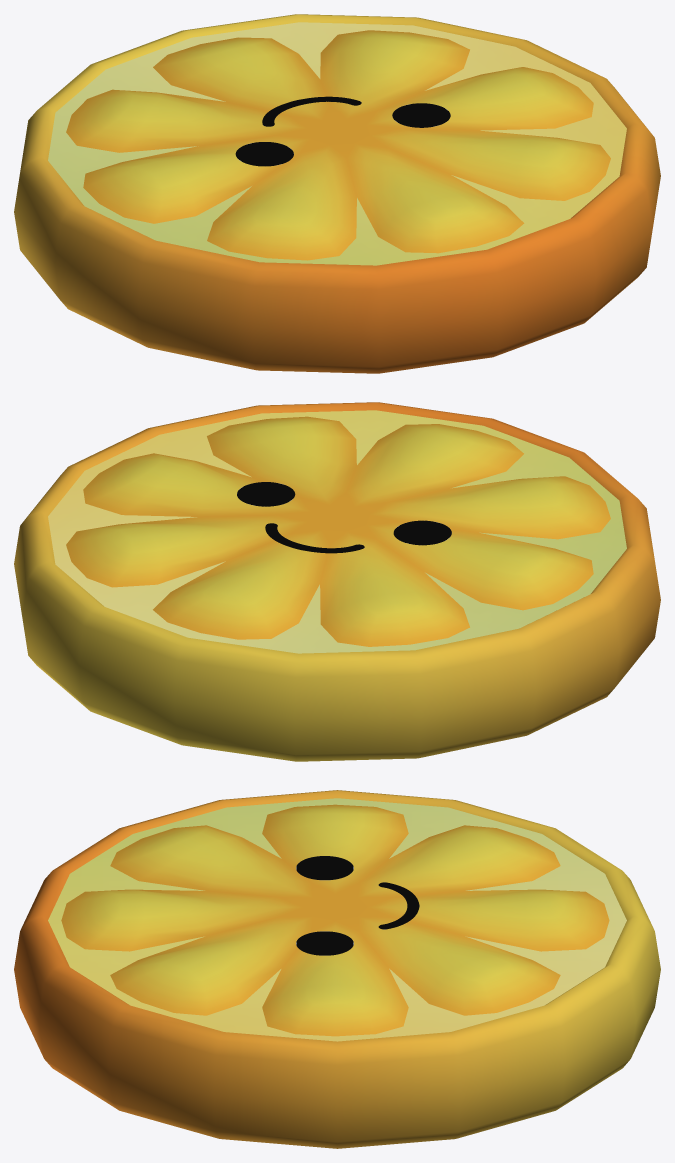
Rendered from lemon_slice_smile.fbx.
The picture shows the model from 3 angles, top to bottom: view 1: azimuth 30°, elevation 25°; view 2: azimuth 150°, elevation 25°; view 3: azimuth 270°, elevation 25°; orthographic projection.
Visible parts, largest first — view 1: lemon_slice; view 2: lemon_slice; view 3: lemon_slice.
Boxes of the visible parts, box(x1,y1,x2,y2) form: lemon_slice: box(14, 14, 660, 373); lemon_slice: box(14, 402, 660, 761); lemon_slice: box(14, 790, 660, 1148).
Size of the model in its own units: 48.75 by 48.75 by 10.88.
